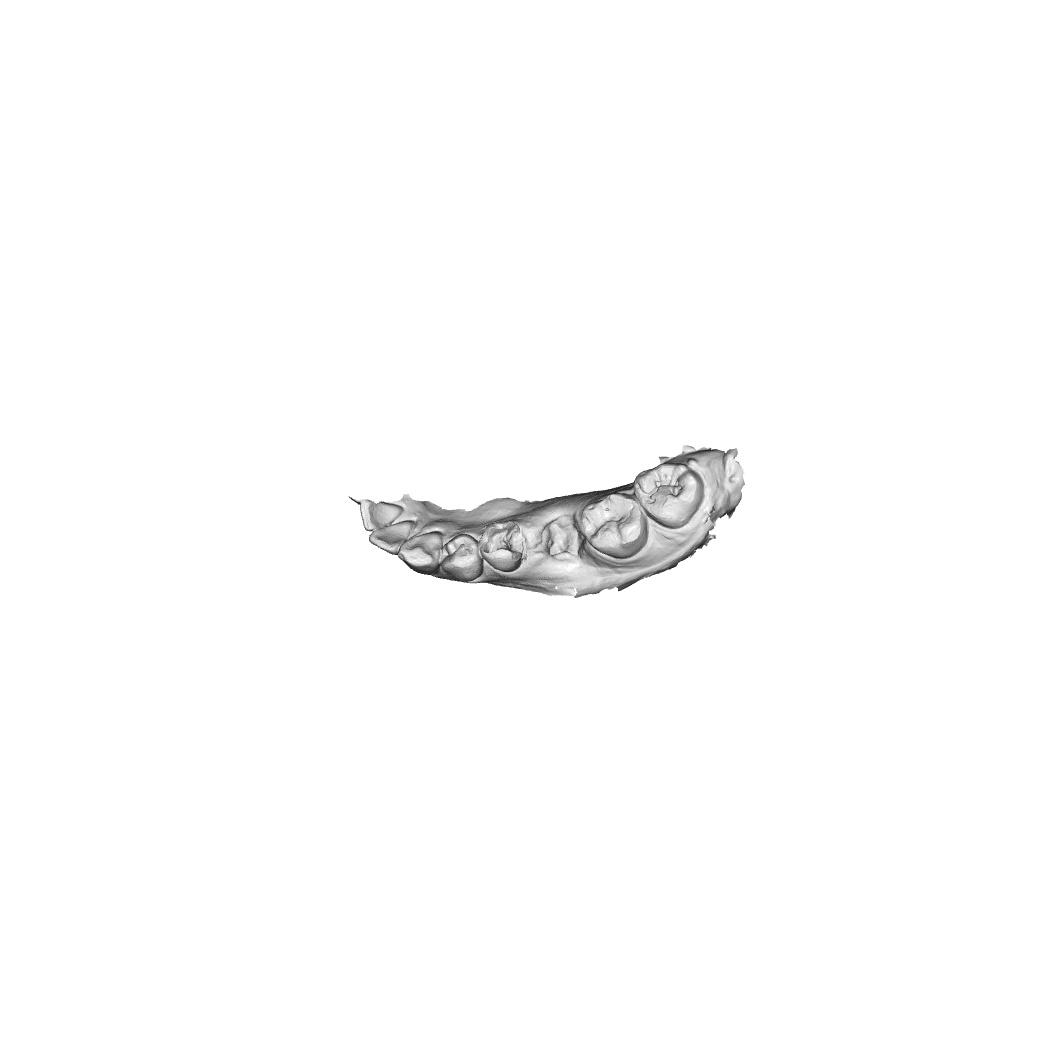canine: (441, 533, 484, 583)
incisor: (397, 530, 445, 574), (368, 519, 417, 556), (359, 498, 406, 532)
inlay: (481, 523, 527, 564)
molar: (578, 491, 650, 561), (633, 462, 706, 531)
